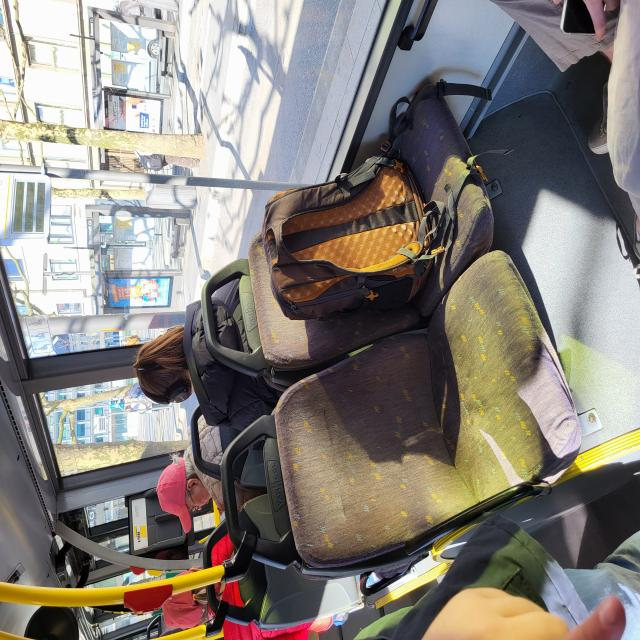asiento-libre: (45, 294, 293, 640)
